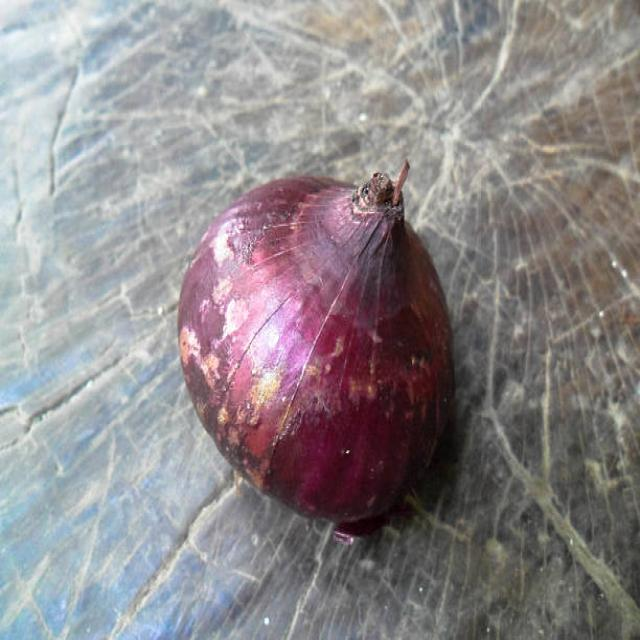onion: (173, 170, 463, 536)
